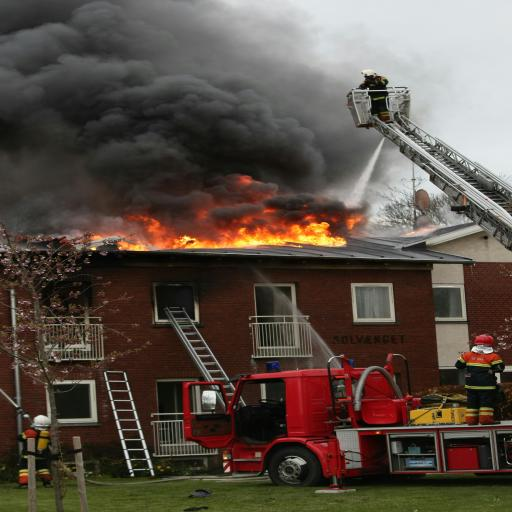buildingfire: (0, 111, 512, 326)
smoke: (0, 0, 362, 224)
